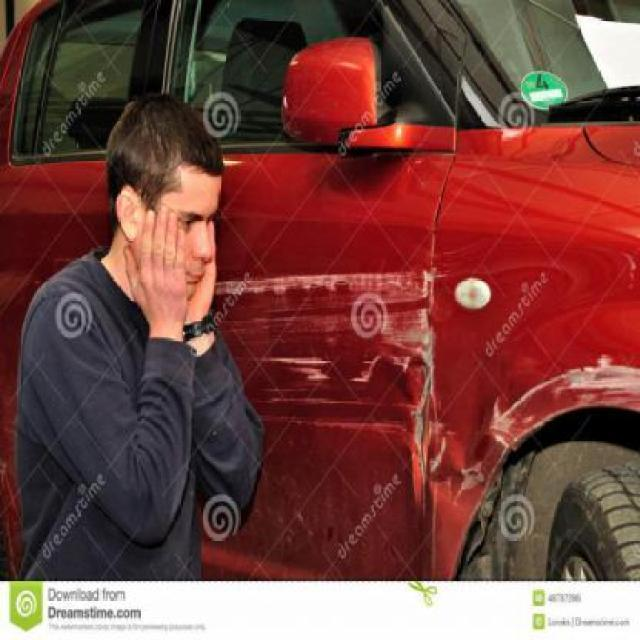doorouter-scratch: (206, 256, 444, 513)
fender-dent: (430, 297, 640, 510)
